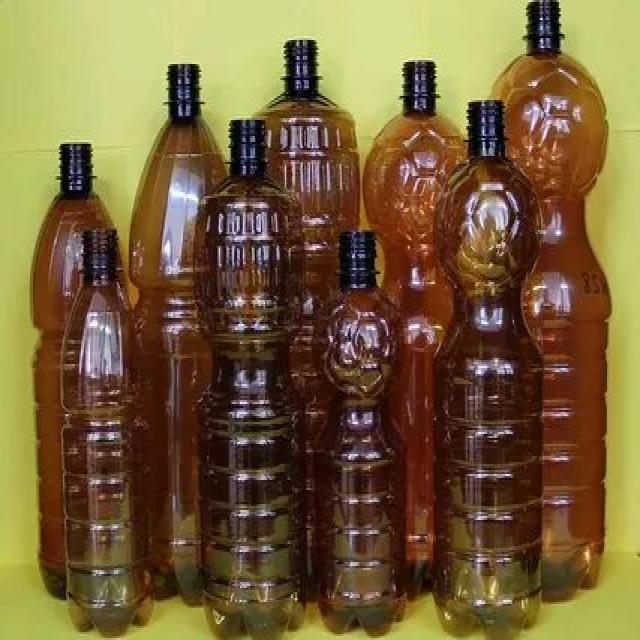brown: (505, 5, 608, 592), (432, 100, 541, 640), (195, 120, 306, 640), (362, 58, 455, 592), (56, 228, 151, 637), (131, 63, 202, 605), (311, 228, 405, 637), (255, 42, 356, 235), (31, 143, 109, 227)
